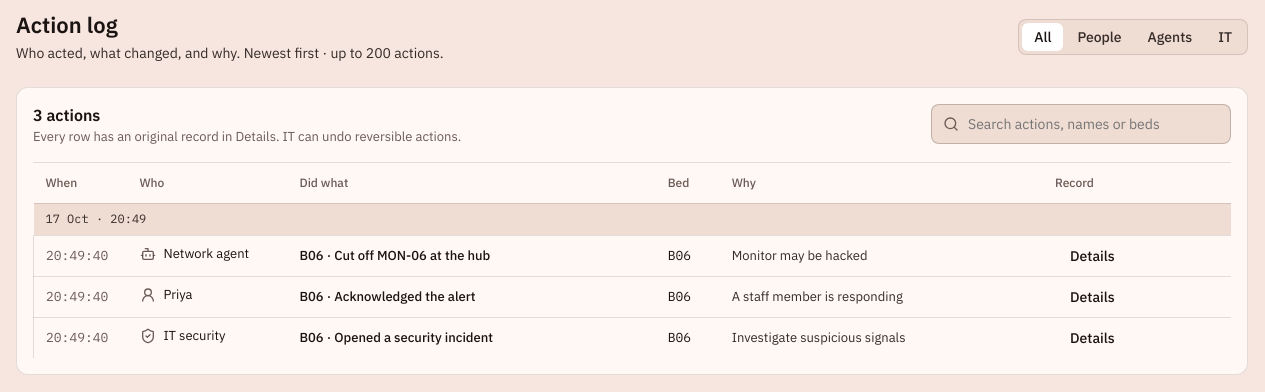
readable action log › separates People, Agents and IT while searching the human sentence
Click the radio button labelled "People". click: coordinates (1100, 37)
box: [1065,23,1134,51]
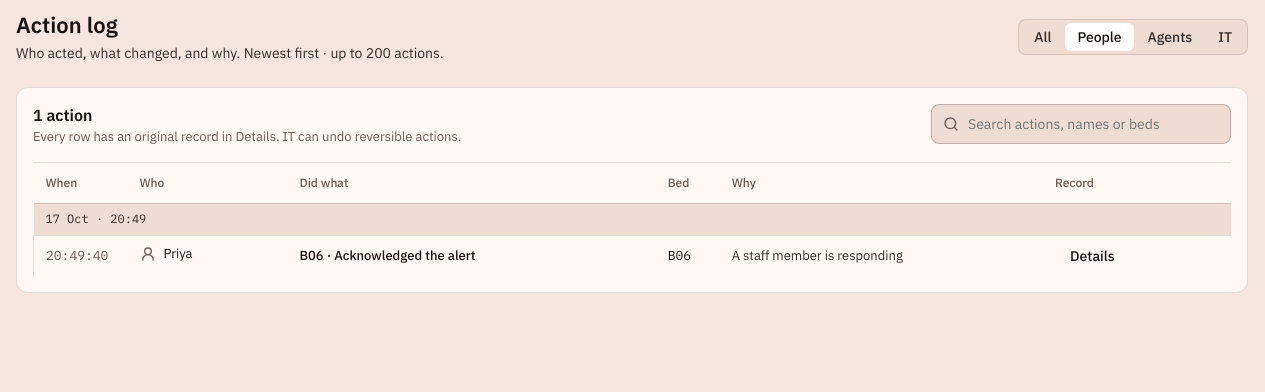
Expected: the text "Priya" is shown, [140,244,192,264]
Result: the text "IT security" is gone
Result: the text "Network agent" is gone
Click the radio button labelled "IT". click: coordinates (1225, 37)
box: [1206,23,1244,51]
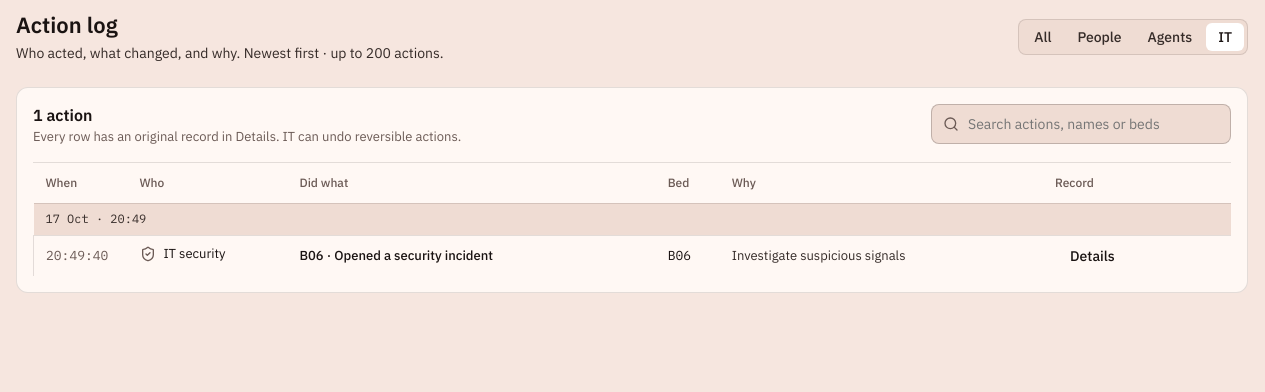
Result: the text "IT security" is shown at [140,244,226,264]
Result: the text "Priya" is gone
Click the radio button labelled "All". click: coordinates (1043, 37)
box: [1022,23,1063,51]
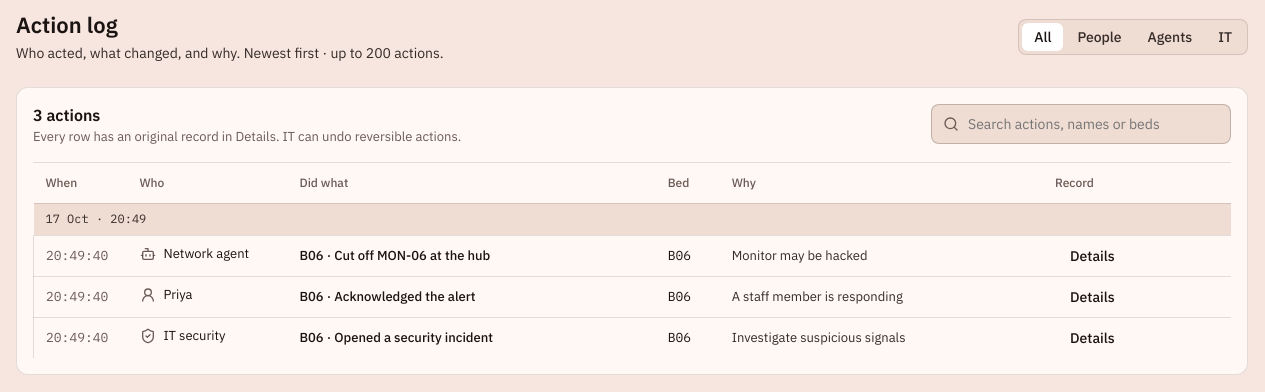
Type "Network agent" into the search field. click: coordinates (1081, 124)
box: [931,104,1231,144]
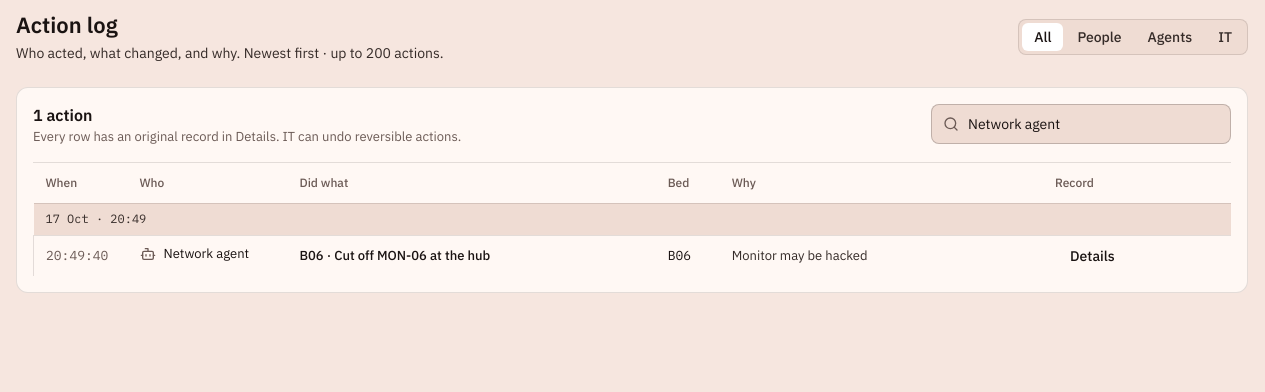
Result: the text "B06 · Cut off MON-06 at the hub" is shown at [300,246,490,264]
Result: the text "Acknowledged the alert" is gone
